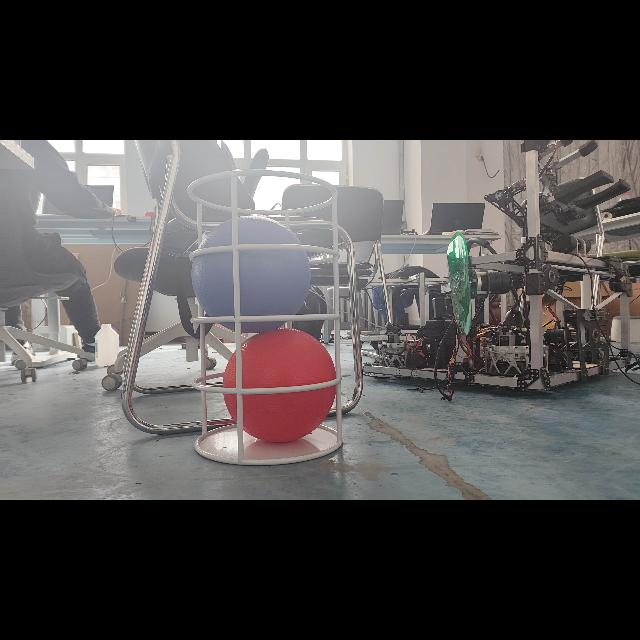B: (190, 214, 312, 334)
R: (222, 328, 338, 442)
S: (184, 162, 350, 468)
